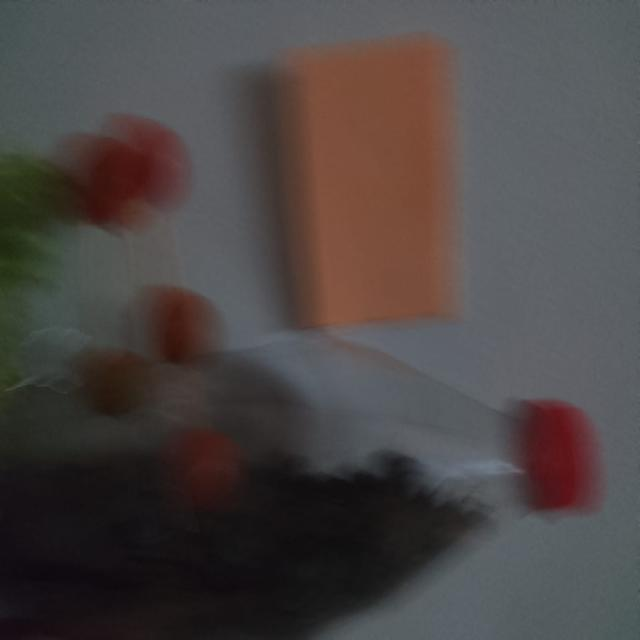card: (279, 35, 460, 327)
fruit_maturation: (171, 429, 243, 510)
fully_grown: (78, 115, 190, 228), (146, 285, 216, 364)
